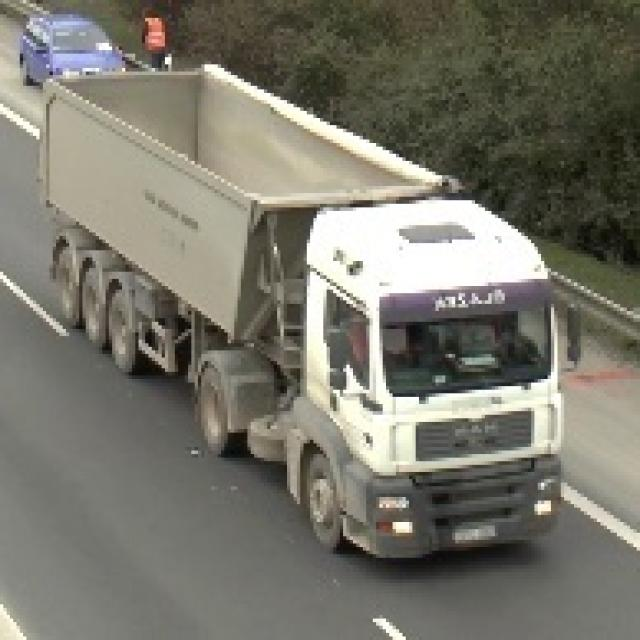TRUCK: (32, 64, 567, 563)
